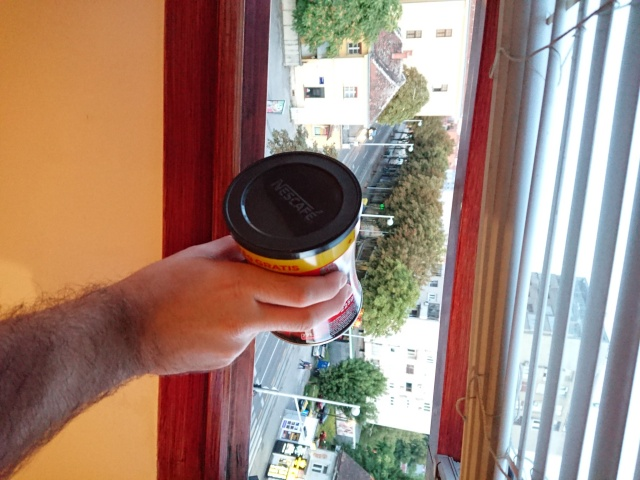Nescafe Classic 225g: (220, 148, 367, 349)
